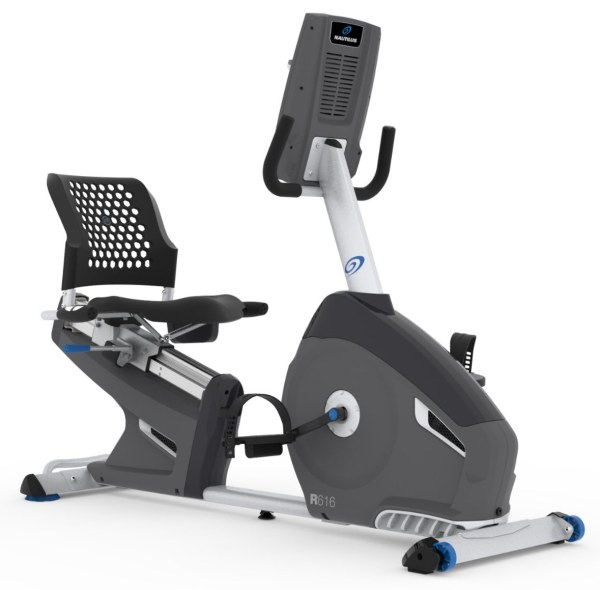gym_bike: (42, 23, 578, 572)
